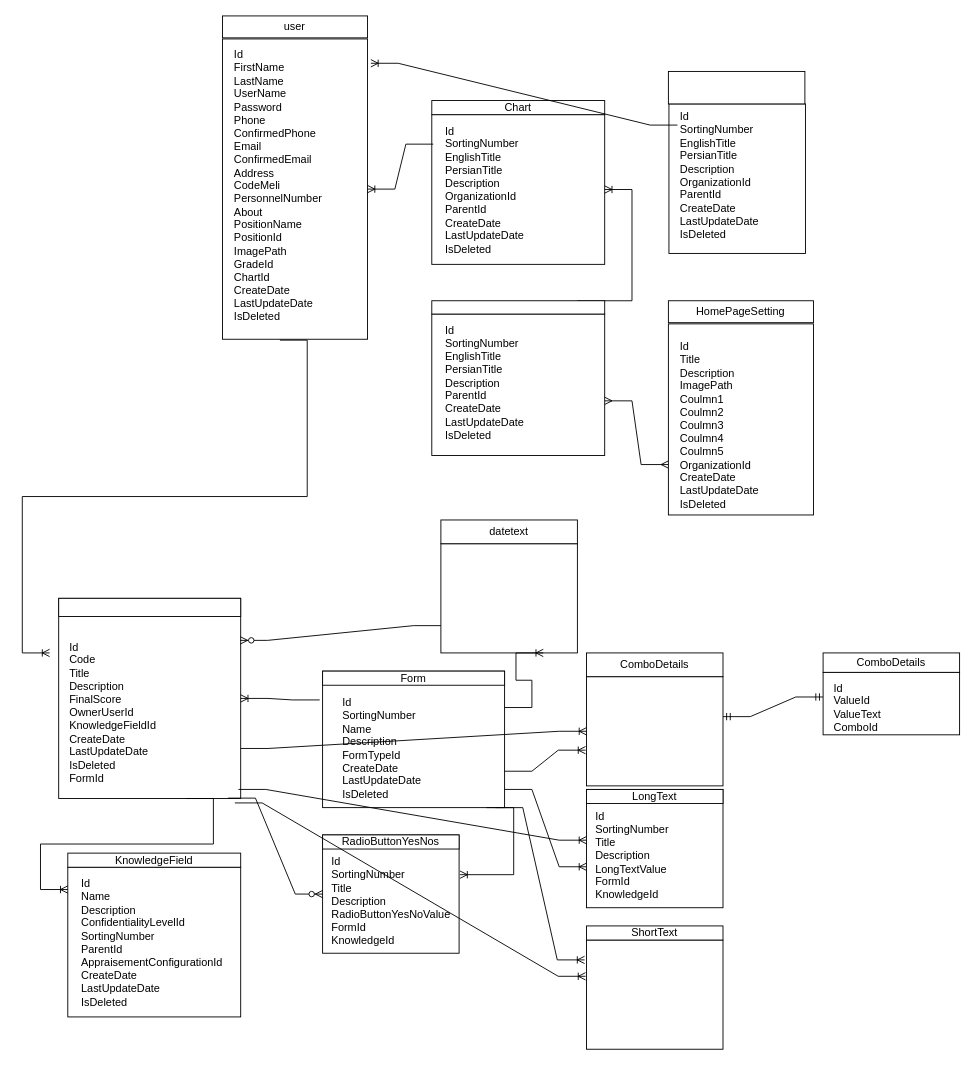
Image size: 976x1066. Some labels were removed from this diagram. The shapes that lost their labels are listed below. From the top down, each one's centre as x and y in pixels, then its label:
the point at 736,87: POstPosition
the point at 518,307: Organization
the point at 149,607: Knowledge
the point at 508,598: Id SortingNumber Title Description DateTextValue FormId KnowledgeId
the point at 654,731: Id SortingNumber Title Description ComboDetailId FormId KnowledgeId
the point at 654,994: Id SortingNumber Title Description ShortTestValue FormId KnowledgeId
